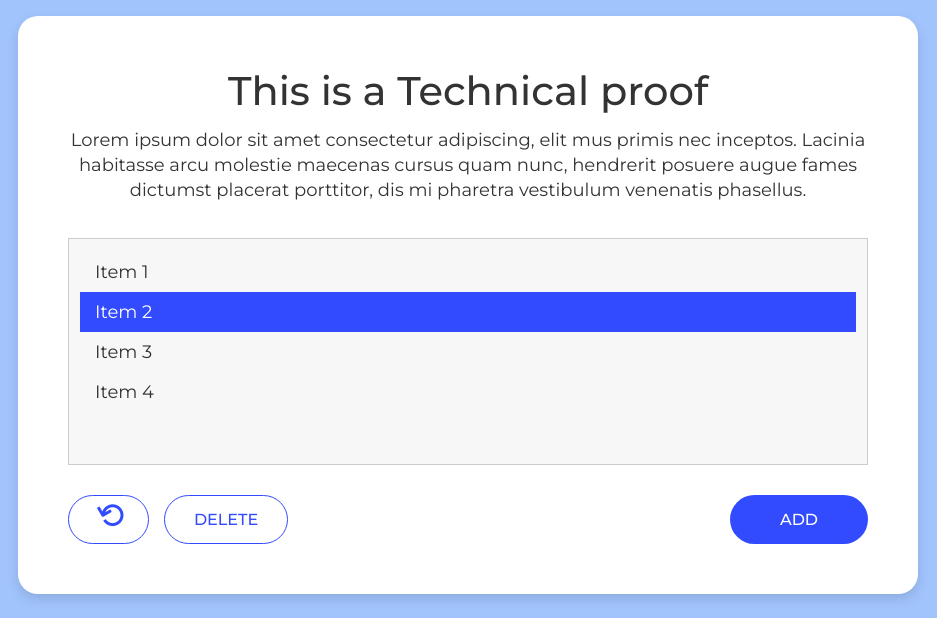
Test: Main component › delete works if selected items
Click the list item "Item 1": coordinates (122, 272) [95,260,149,282]
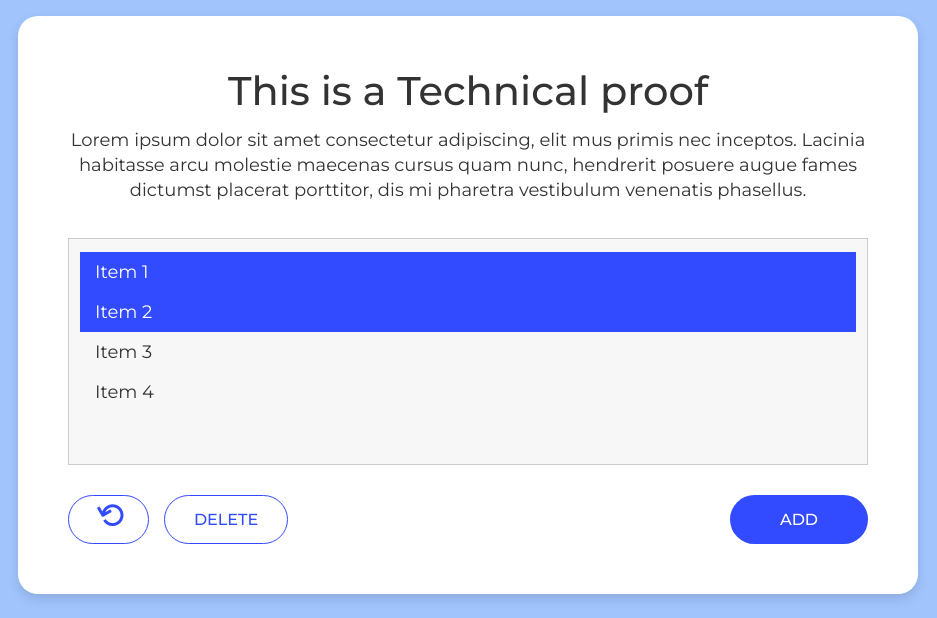
Click the button "DELETE": coordinates (226, 519) [164,494,288,544]
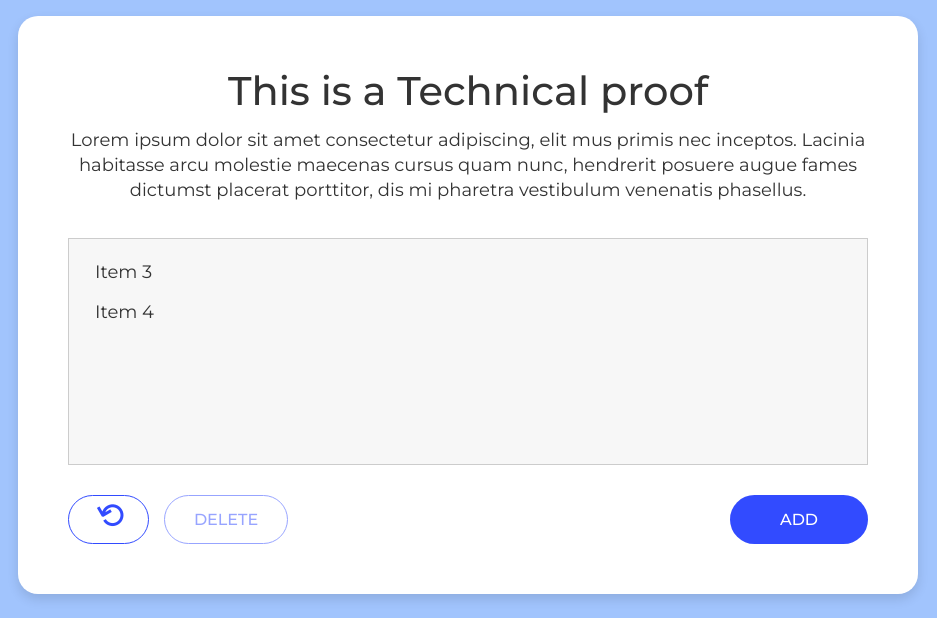
Expected: the list item "Item 1" is gone
